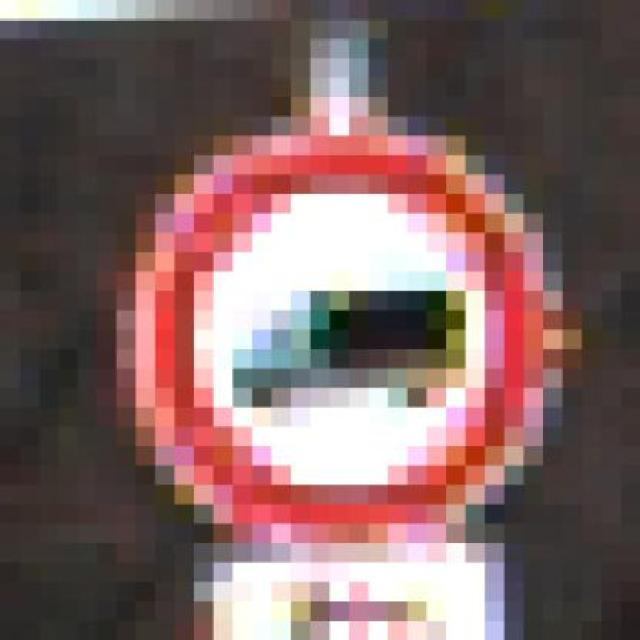Truck traffic is prohibited: (77, 116, 601, 562)
